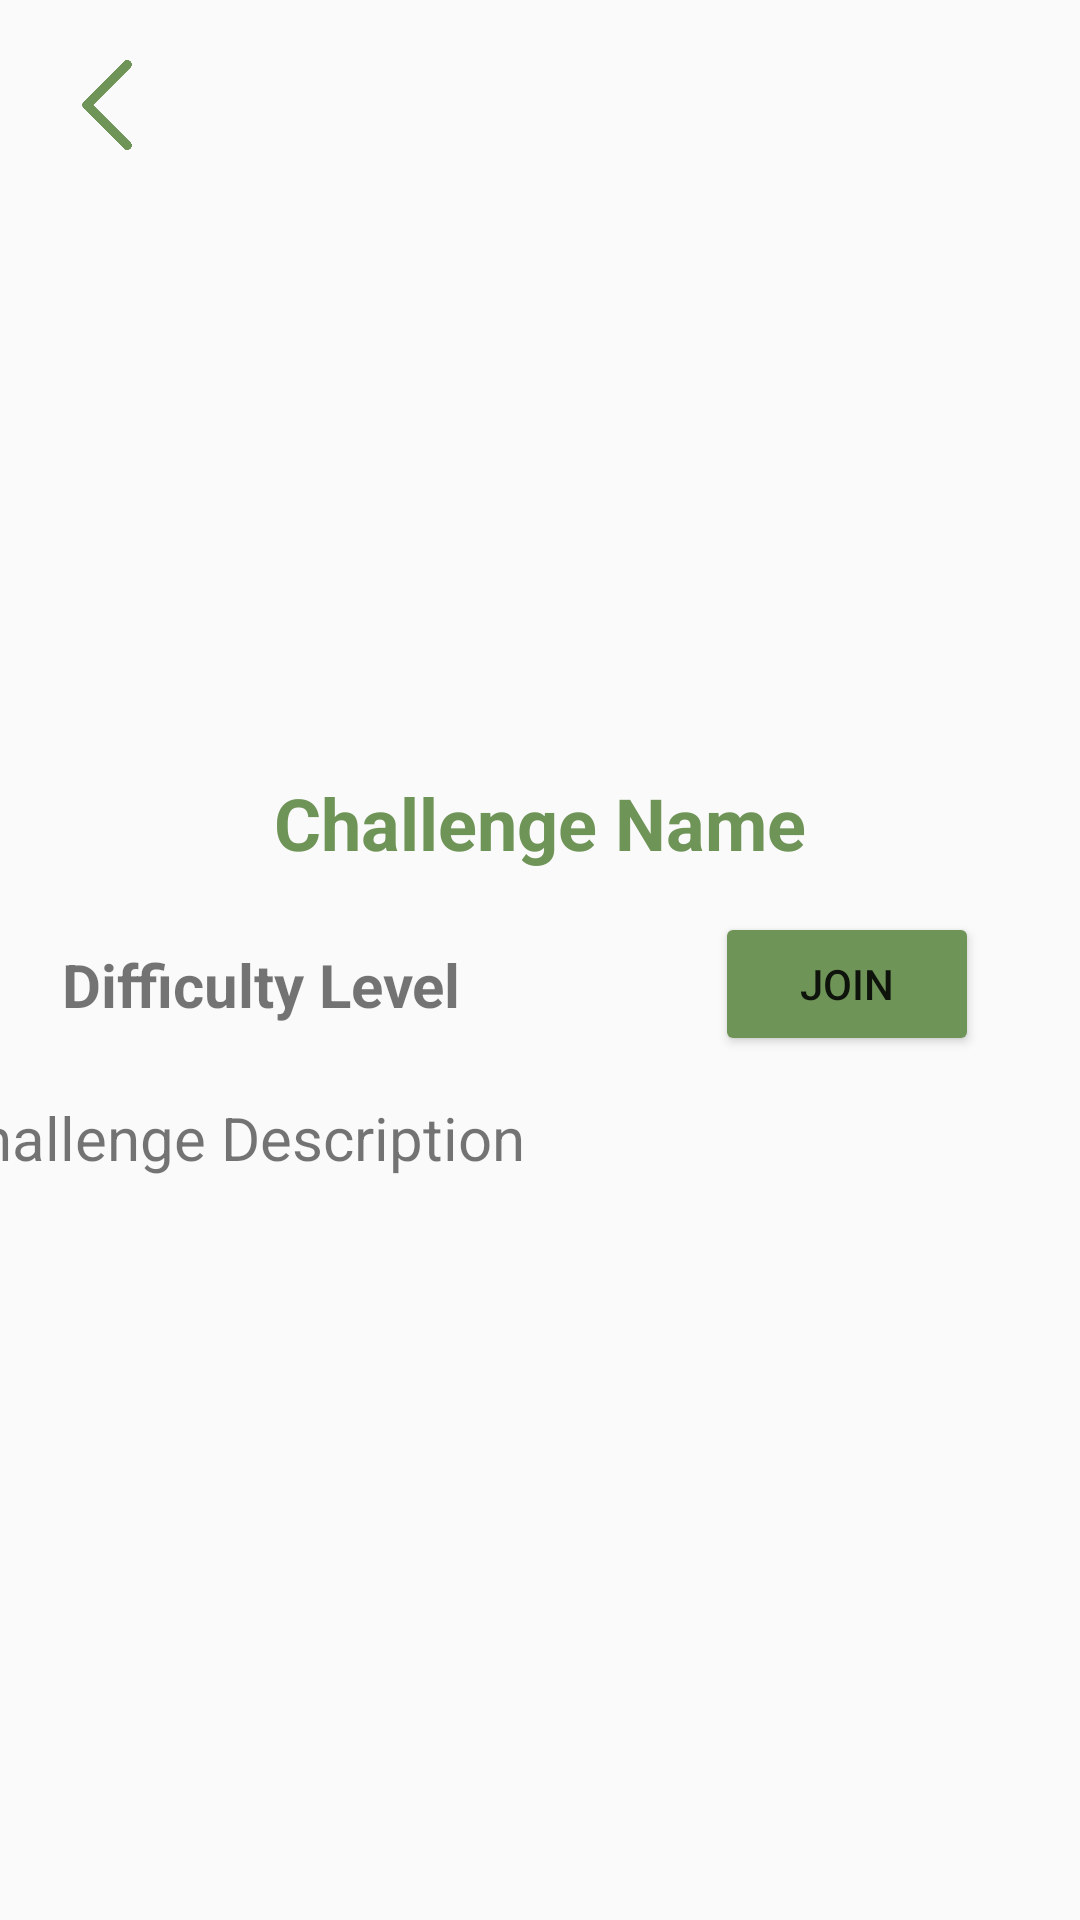

Screen size 1080*1920. Icon name, then its box in pixels as bbox=(x1, y1, x2, y2):
back: bbox=(82, 60, 132, 150)
